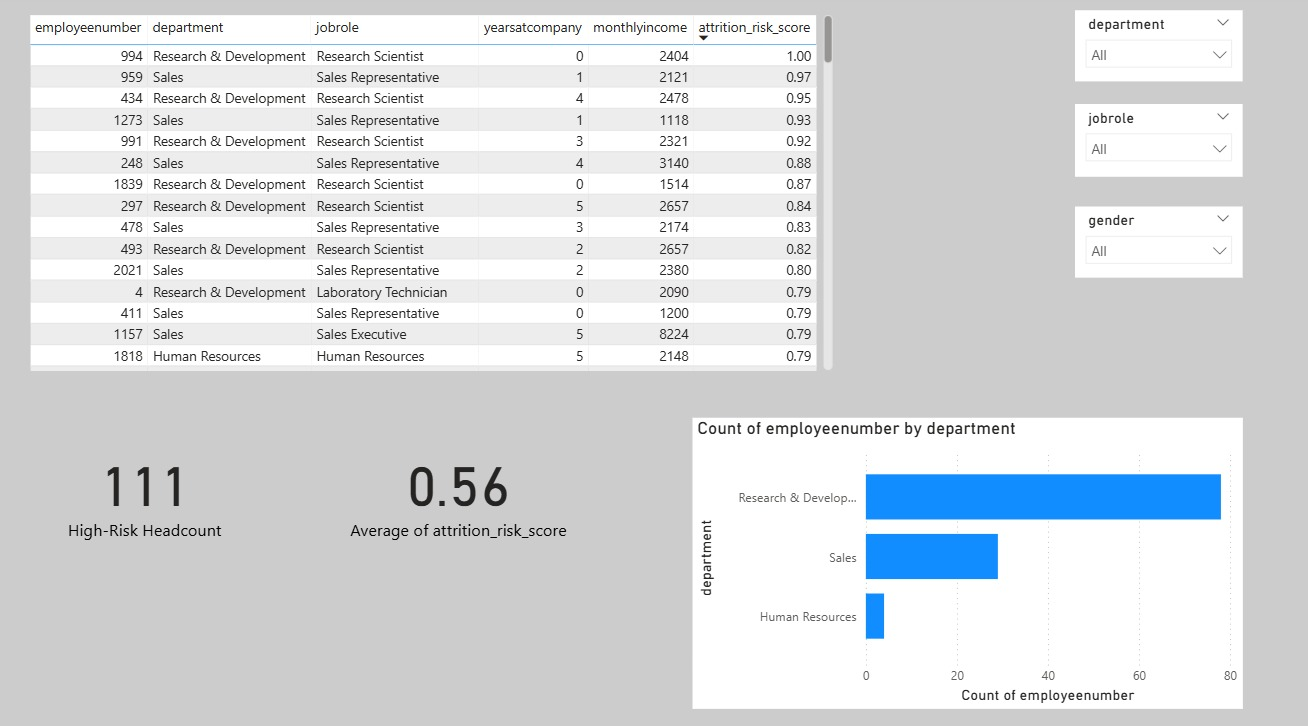

The page's visual inventory and layout, read from the dashboard file:
{"tool":"powerbi","page":{"name":"05_Intervention_Tool","canvas":[1280,720],"ordinal":4},"visuals":[{"type":"slicer","fields":{"Values":["hr_data_with_predictions.department"]},"box":[1051.6,15.9,163.9,69.7],"z":0},{"type":"slicer","fields":{"Values":["hr_data_with_predictions.jobrole"]},"box":[1051.6,107.6,163.9,70.9],"z":1000},{"type":"slicer","fields":{"Values":["hr_data_with_predictions.gender"]},"box":[1051.6,207.9,163.9,69.7],"z":2000},{"type":"tableEx","fields":{"Values":["hr_data_with_predictions.employeenumber","hr_data_with_predictions.department","hr_data_with_predictions.jobrole","hr_data_with_predictions.yearsatcompany","hr_data_with_predictions.monthlyincome","hr_data_with_predictions.attrition_risk_score"]},"box":[23.2,15.9,796.1,357.1],"z":3000},{"type":"card","fields":{"Values":["Count(hr_data_with_predictions.employeenumber)"]},"box":[23.2,401.1,237.2,170],"z":3001},{"type":"card","fields":{"Values":["Avg(hr_data_with_predictions.attrition_risk_score)"]},"box":[330.2,401.1,237.2,170],"z":3002},{"type":"barChart","fields":{"Category":["hr_data_with_predictions.department"],"Y":["Count(hr_data_with_predictions.employeenumber)"]},"box":[677.4,414.5,538,284.9],"z":3003}]}

Visuals, with their boxes in screenshot pixels (x1, y1, x2, y2), scaled from the page's 1280x720 canvas onto the 1308x726 screenshot:
slicer - hr_data_with_predictions.department: [1075,16,1242,86]
slicer - hr_data_with_predictions.jobrole: [1075,108,1242,180]
slicer - hr_data_with_predictions.gender: [1075,210,1242,280]
tableEx - hr_data_with_predictions.employeenumber x hr_data_with_predictions.department: [24,16,837,376]
card - Count(hr_data_with_predictions.employeenumber): [24,404,266,576]
card - Avg(hr_data_with_predictions.attrition_risk_score): [337,404,580,576]
barChart - hr_data_with_predictions.department x Count(hr_data_with_predictions.employeenumber): [692,418,1242,705]
